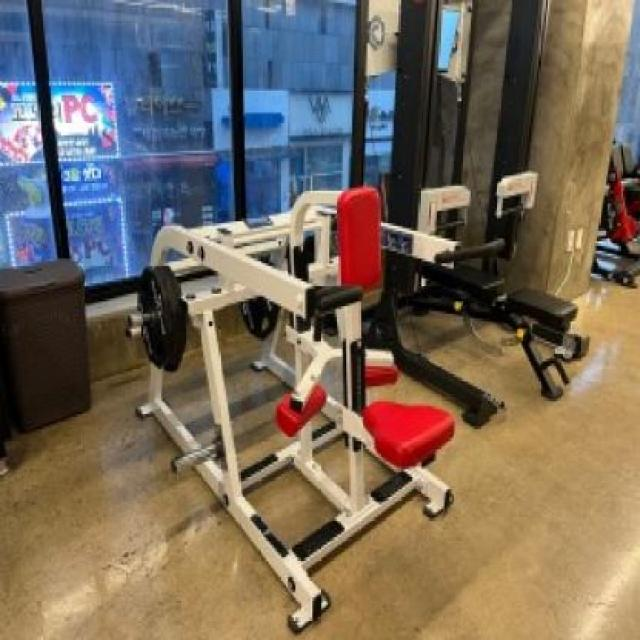seated dip machine: (131, 189, 503, 628)
